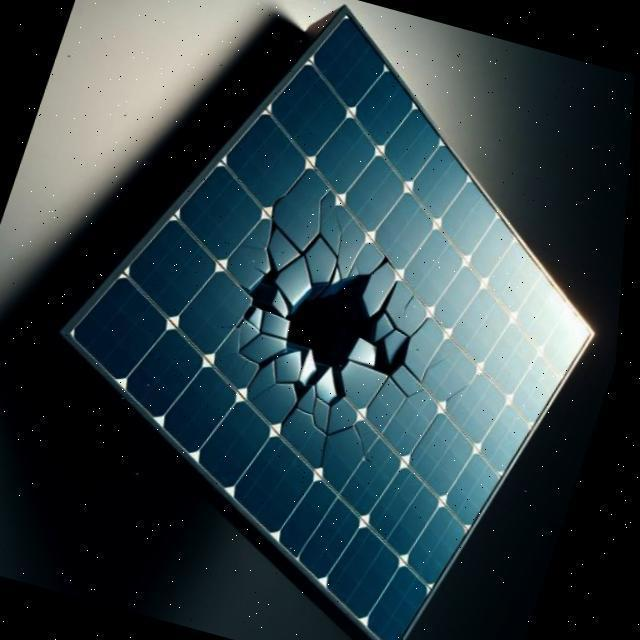Anomaly Solar Panel: (56, 11, 626, 640)
Structural Damage: (225, 230, 434, 434), (263, 162, 353, 291), (357, 419, 384, 466), (449, 378, 476, 404)
